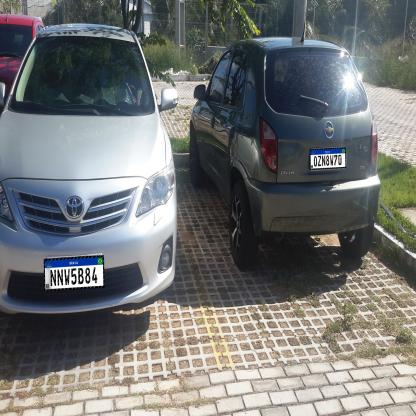PlacaM: (44, 256, 104, 292), (310, 147, 346, 170)
